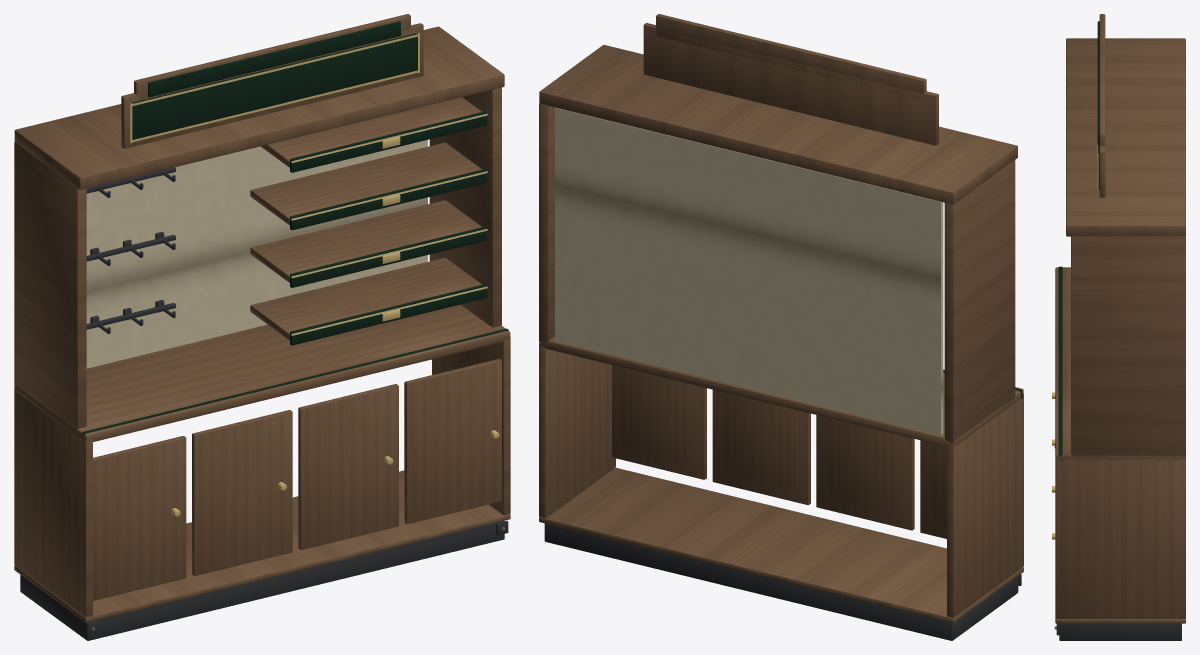
File: slat_shelf.glb
3 renders of one model, left to right at view 1: azimuth 30°, elevation 25°; view 2: azimuth 150°, elevation 25°; view 3: azimuth 270°, elevation 25°, orthographic. The views are drawn at different scales.
Visible parts, largest first — view 1: slat_shelf_body; view 2: slat_shelf_body; view 3: slat_shelf_body.
Boxes of the visible parts, x1,y1,x2,y2 form: slat_shelf_body: (14, 14, 510, 640); slat_shelf_body: (539, 14, 1023, 640); slat_shelf_body: (1052, 14, 1185, 640).
Size of what is drawn, in the model's own units: 1.7 by 2.01 by 0.513.
Materials: 8 (4 with a texture image).
